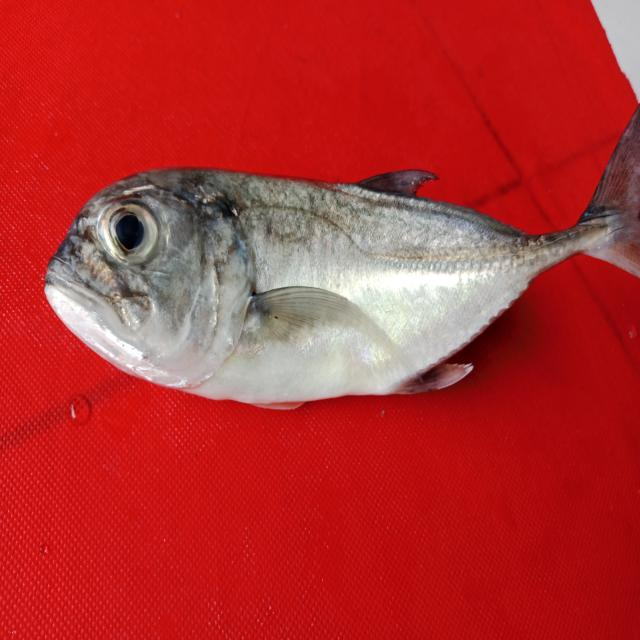ikan: (43, 102, 639, 410)
